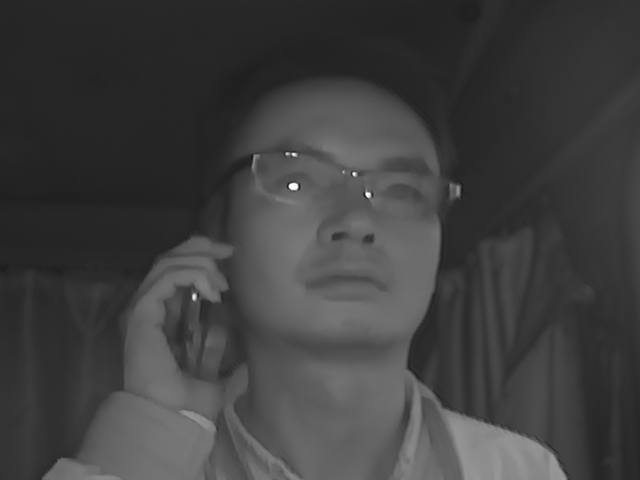hand: (121, 235, 238, 419)
